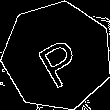P_NW: (28, 25, 86, 87)
